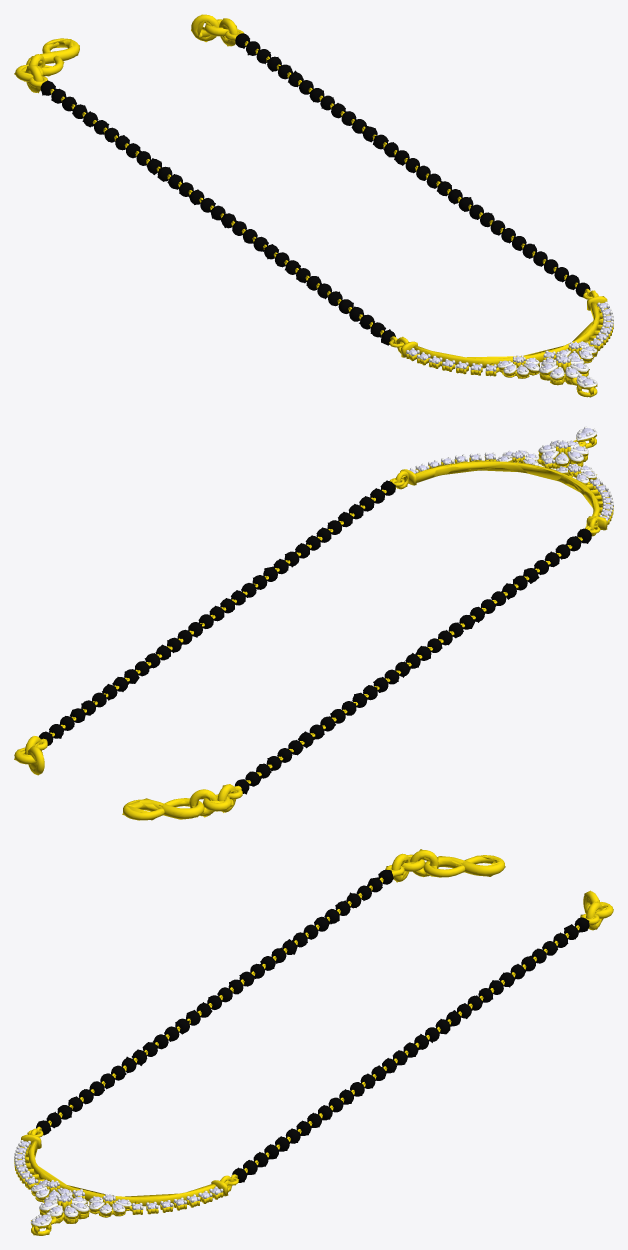
File: DPN-D000673499.glb
The picture shows the model from 3 angles, top to bottom: view 1: azimuth 30°, elevation 25°; view 2: azimuth 150°, elevation 25°; view 3: azimuth 330°, elevation 25°; orthographic projection.
Parts seen in each view (by area): view 1: highPolyMesh, lowPolyMesh; view 2: highPolyMesh, lowPolyMesh; view 3: highPolyMesh, lowPolyMesh.
Boxes of the visible parts, x1,y1,x2,y2 form: highPolyMesh: (15, 14, 613, 397); lowPolyMesh: (14, 14, 613, 397); highPolyMesh: (14, 426, 613, 820); lowPolyMesh: (14, 426, 613, 820); highPolyMesh: (14, 850, 613, 1235); lowPolyMesh: (14, 849, 613, 1235).
Bounding box in the file's own units: 0.035 × 0.00445 × 0.1417.
